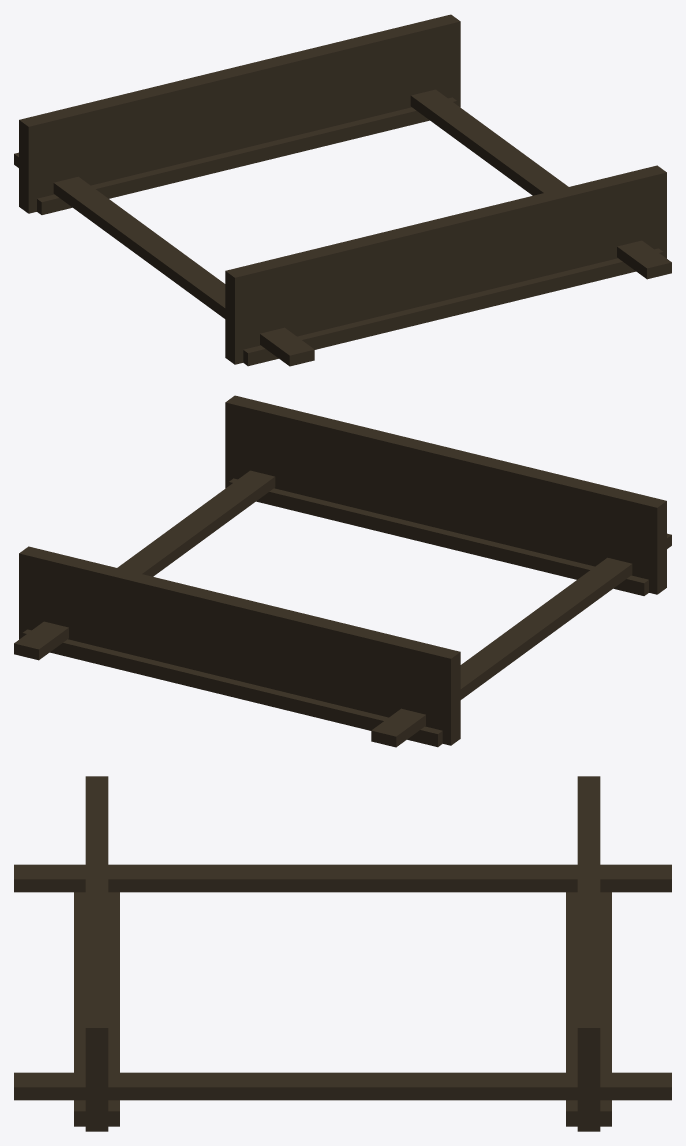
Rendered from rack.obj.
The picture shows the model from 3 angles, top to bottom: view 1: azimuth 30°, elevation 25°; view 2: azimuth 150°, elevation 25°; view 3: azimuth 270°, elevation 25°; orthographic projection. The views are drawn at different scales.
Parts seen in each view (by area): view 1: CampingHatchback_rack; view 2: CampingHatchback_rack; view 3: CampingHatchback_rack.
Part boxes in pixels (x1,y1,x2,y2): CampingHatchback_rack: (14,14,671,366); CampingHatchback_rack: (14,395,671,747); CampingHatchback_rack: (14,776,671,1131).
Size of the model in its own units: 1.04 by 0.2 by 1.15.
